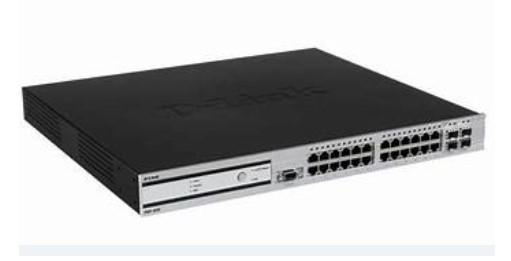NetworkSwitch: (22, 48, 487, 217)
